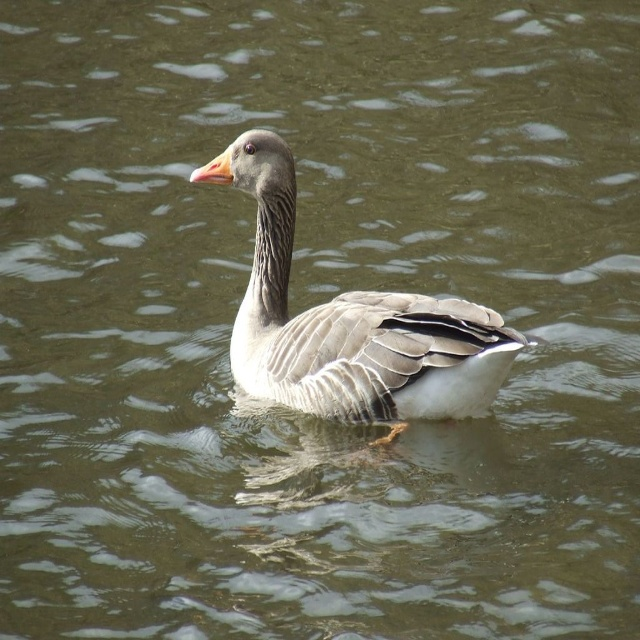Duck: (189, 128, 538, 446)
